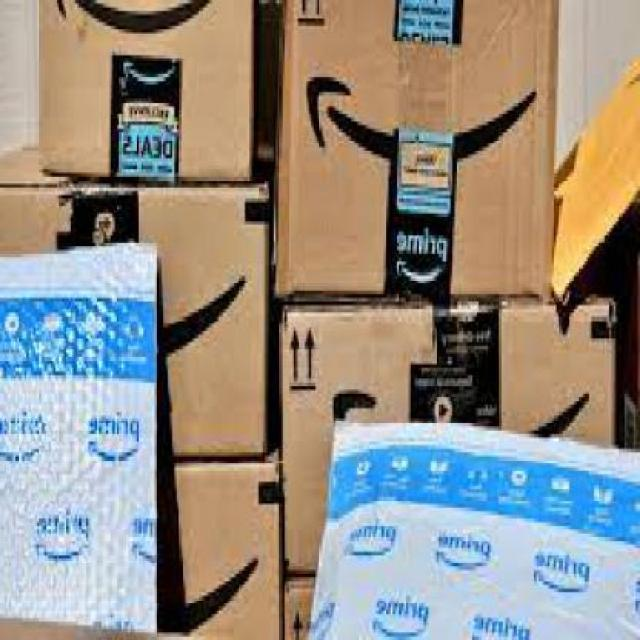cardboxes: (282, 298, 613, 572), (273, 0, 560, 298), (2, 176, 269, 467), (2, 456, 282, 636), (38, 0, 256, 188)
